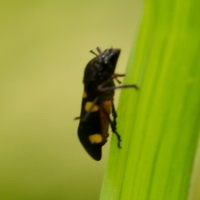insect: (76, 47, 137, 160)
